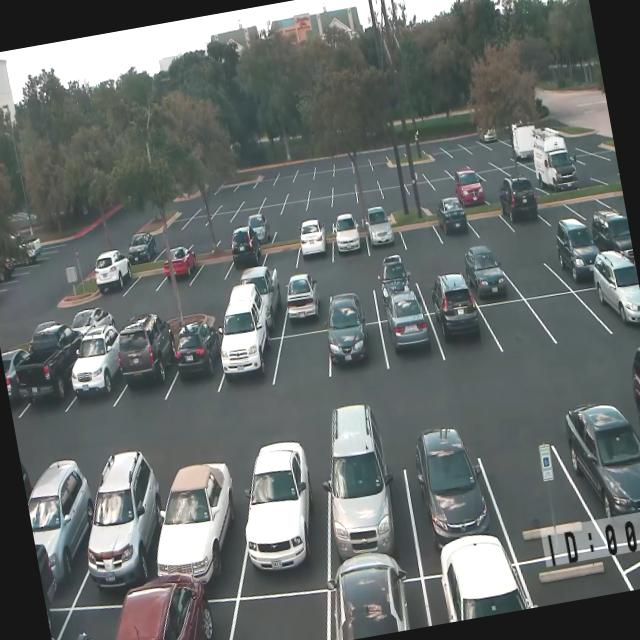car: (317, 436, 420, 585), (151, 452, 252, 598), (400, 436, 503, 575), (231, 455, 333, 589), (76, 458, 174, 596), (22, 464, 104, 604), (567, 402, 640, 525), (108, 582, 227, 640), (322, 573, 423, 640), (433, 302, 498, 370), (216, 334, 282, 400), (232, 269, 290, 340), (380, 311, 442, 376), (326, 320, 388, 383), (548, 226, 606, 290), (590, 268, 640, 342), (278, 267, 332, 334), (167, 346, 227, 406), (45, 596, 124, 640), (461, 246, 514, 308), (66, 366, 128, 419), (118, 358, 176, 412), (22, 367, 78, 422), (370, 263, 420, 317), (499, 184, 547, 238), (432, 199, 476, 249), (532, 155, 579, 200), (362, 210, 403, 260), (160, 248, 202, 294), (329, 222, 368, 266), (294, 230, 334, 270), (225, 233, 262, 276), (100, 266, 135, 302), (126, 238, 159, 269), (511, 142, 534, 168)
free: (480, 418, 592, 567), (212, 580, 329, 640), (534, 285, 602, 353), (484, 294, 550, 363), (270, 327, 334, 392), (320, 270, 379, 328), (411, 256, 472, 312), (503, 246, 560, 302), (466, 199, 511, 244), (396, 210, 441, 254), (192, 248, 235, 288), (536, 191, 578, 230), (566, 188, 612, 222), (125, 264, 166, 302), (260, 238, 300, 270), (566, 150, 595, 190), (478, 172, 512, 204), (331, 205, 362, 232), (304, 212, 335, 237), (502, 159, 531, 182), (394, 192, 424, 214), (232, 208, 260, 228), (274, 211, 302, 230), (332, 188, 358, 208), (468, 140, 494, 160), (364, 202, 390, 222), (428, 172, 456, 190), (308, 180, 334, 199), (260, 200, 284, 220), (210, 210, 236, 228), (330, 178, 357, 195), (282, 198, 309, 215), (469, 156, 494, 174), (459, 132, 484, 150), (186, 213, 211, 230), (445, 158, 471, 174), (379, 184, 402, 202), (219, 199, 242, 217), (424, 163, 448, 180), (423, 141, 448, 157), (354, 176, 378, 192), (238, 194, 262, 210), (163, 218, 187, 234), (356, 189, 385, 202), (285, 186, 310, 201), (308, 194, 332, 209), (376, 172, 398, 188), (396, 168, 418, 184), (216, 186, 238, 202), (412, 178, 433, 194), (446, 144, 468, 158), (367, 148, 388, 162), (264, 192, 288, 204), (198, 202, 216, 218), (332, 156, 352, 170), (293, 168, 313, 182), (278, 162, 298, 176), (408, 148, 426, 163), (298, 161, 316, 176), (312, 168, 334, 180), (332, 166, 354, 178), (274, 173, 294, 186), (258, 173, 278, 186), (236, 179, 256, 192), (350, 153, 370, 166), (353, 162, 374, 174), (315, 160, 336, 172), (370, 161, 389, 171)
